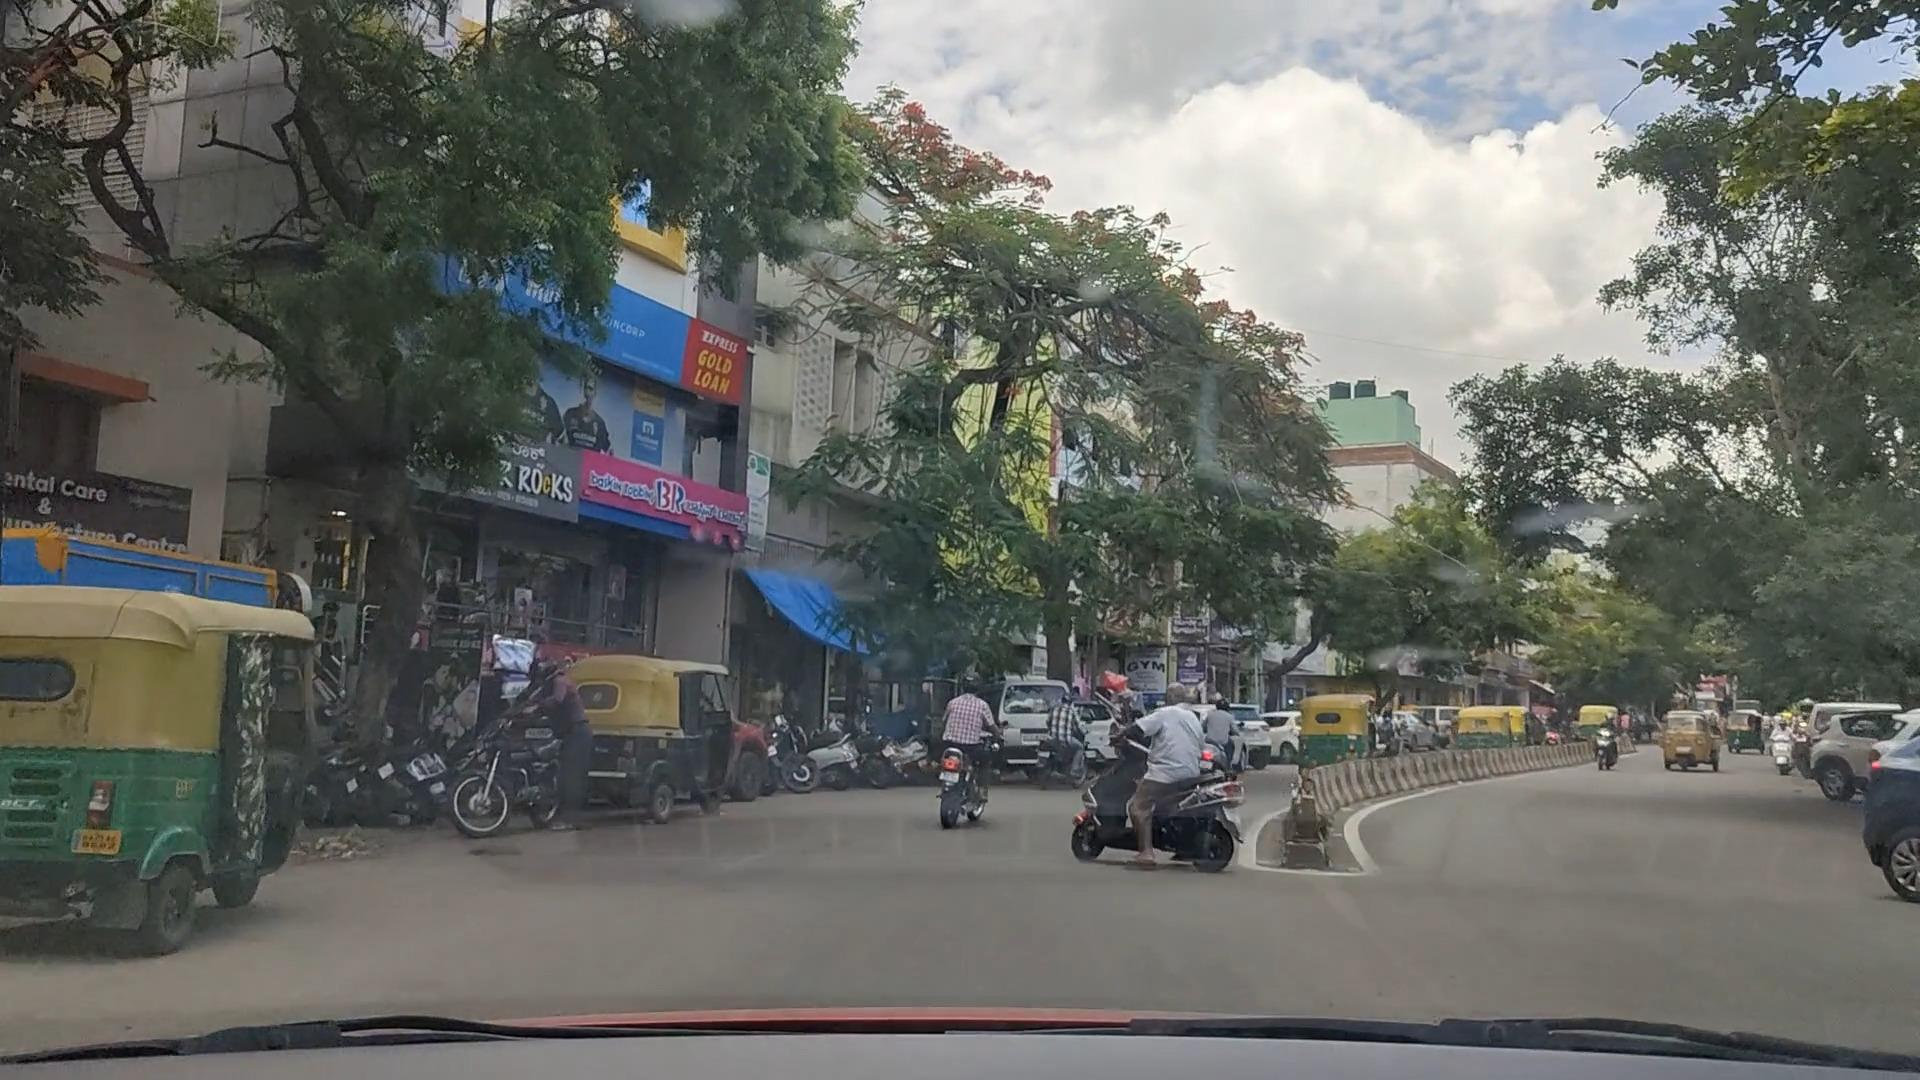LMV: (5, 605, 306, 905), (1040, 678, 1229, 890), (611, 644, 723, 808), (491, 678, 608, 835), (935, 700, 1011, 831)
